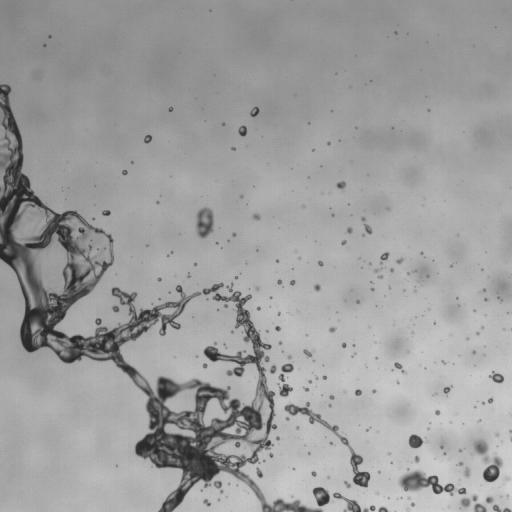droplet: (470, 439, 503, 482), (195, 207, 214, 238), (408, 434, 428, 448), (488, 370, 504, 383), (7, 95, 18, 106), (243, 116, 254, 127), (28, 181, 39, 192), (187, 223, 198, 234), (75, 296, 86, 307), (133, 300, 144, 311), (65, 305, 76, 316), (119, 312, 130, 323), (82, 327, 93, 338), (332, 331, 343, 342), (469, 336, 480, 347), (284, 372, 295, 383), (267, 380, 278, 391), (285, 392, 296, 403), (273, 395, 284, 406), (139, 411, 150, 422), (295, 412, 306, 423), (139, 424, 150, 435), (241, 462, 252, 473), (215, 470, 226, 481), (168, 479, 179, 490), (205, 484, 216, 495), (408, 488, 419, 499), (305, 497, 316, 508), (501, 473, 511, 485), (249, 106, 259, 117), (238, 125, 247, 137), (443, 384, 452, 396), (336, 181, 346, 191), (463, 466, 471, 478), (19, 165, 28, 174), (206, 231, 215, 240), (385, 257, 394, 266), (373, 278, 382, 287), (182, 286, 191, 295), (171, 292, 180, 301), (110, 295, 119, 304), (119, 304, 128, 313), (16, 309, 25, 318), (53, 322, 62, 331), (12, 334, 21, 343), (13, 337, 22, 346), (119, 371, 128, 380), (139, 393, 148, 402), (309, 404, 318, 413), (466, 443, 475, 452), (413, 446, 422, 455), (485, 447, 494, 456), (257, 449, 266, 458), (473, 452, 482, 461), (409, 463, 418, 472), (173, 467, 182, 476), (398, 467, 407, 476), (238, 480, 247, 489), (394, 484, 403, 493), (452, 492, 461, 501), (269, 363, 276, 374), (504, 372, 511, 383), (251, 504, 262, 511), (344, 479, 352, 488), (505, 480, 511, 491), (320, 505, 331, 511), (463, 505, 474, 511), (313, 283, 321, 291), (203, 498, 211, 506), (144, 134, 151, 143), (396, 257, 405, 264), (252, 213, 260, 220), (112, 305, 119, 313), (0, 74, 5, 85), (0, 125, 5, 136), (0, 166, 5, 177), (8, 102, 15, 109), (246, 104, 253, 111), (17, 125, 24, 132), (20, 146, 27, 153), (21, 158, 28, 165), (38, 194, 45, 201), (192, 206, 199, 213), (56, 207, 63, 214), (190, 217, 197, 224), (91, 220, 98, 227), (211, 222, 218, 229), (369, 223, 376, 230), (342, 232, 349, 239), (392, 262, 399, 269), (381, 268, 388, 275), (282, 278, 289, 285), (153, 299, 160, 306), (242, 302, 249, 309), (253, 323, 260, 330), (13, 327, 20, 334), (66, 330, 73, 337), (469, 333, 476, 340), (259, 335, 266, 342), (270, 340, 277, 347), (40, 345, 47, 352), (262, 348, 269, 355), (107, 359, 114, 366), (62, 361, 69, 368), (115, 367, 122, 374), (275, 367, 282, 374), (263, 369, 270, 376), (297, 400, 304, 407), (326, 429, 333, 436), (416, 430, 423, 437), (502, 431, 509, 438), (136, 433, 143, 440), (267, 433, 274, 440), (333, 437, 340, 444), (268, 445, 275, 452), (496, 451, 503, 458), (136, 455, 143, 462), (479, 463, 486, 470), (357, 464, 364, 471), (239, 465, 246, 472), (164, 466, 171, 473), (498, 466, 505, 473), (250, 473, 257, 480), (211, 474, 218, 481), (494, 477, 501, 484), (197, 478, 204, 485), (438, 479, 445, 486), (453, 482, 460, 489), (259, 486, 266, 493), (440, 490, 447, 497), (464, 491, 471, 498), (182, 494, 189, 501), (283, 496, 290, 503), (477, 496, 484, 503), (266, 498, 273, 505), (254, 500, 261, 507), (340, 500, 347, 507), (468, 500, 475, 507), (485, 503, 492, 510), (328, 326, 336, 332), (354, 389, 362, 395), (172, 506, 181, 511), (202, 506, 211, 511), (274, 325, 281, 331), (201, 363, 208, 369), (102, 210, 110, 215), (302, 386, 310, 391), (414, 455, 419, 463), (346, 227, 352, 233), (317, 260, 323, 266), (388, 267, 394, 273), (435, 409, 441, 415), (0, 258, 4, 267), (277, 278, 282, 285), (488, 396, 493, 403), (456, 461, 463, 466), (186, 272, 191, 278), (377, 274, 383, 279), (289, 280, 295, 285), (254, 285, 259, 291), (341, 342, 346, 348), (365, 426, 371, 431), (494, 431, 499, 437), (311, 470, 316, 476), (413, 286, 417, 293), (507, 479, 511, 486), (409, 507, 416, 511), (486, 507, 493, 511), (168, 106, 173, 111), (122, 170, 127, 175), (341, 240, 346, 245), (471, 349, 476, 354), (287, 354, 292, 359), (329, 394, 334, 399), (268, 452, 273, 457), (410, 502, 415, 507), (9, 83, 14, 88), (7, 92, 12, 97), (256, 112, 261, 117), (245, 130, 250, 135), (237, 134, 242, 139), (20, 135, 25, 140), (2, 138, 7, 143), (149, 139, 154, 144), (336, 177, 341, 182), (343, 185, 348, 190), (336, 187, 341, 192), (154, 195, 159, 200), (47, 203, 52, 208), (104, 205, 109, 210), (69, 206, 74, 211), (329, 208, 334, 213), (76, 209, 81, 214), (255, 209, 260, 214), (360, 211, 365, 216), (247, 213, 252, 218), (259, 214, 264, 219), (87, 219, 92, 224), (253, 219, 258, 224), (364, 219, 369, 224), (347, 222, 352, 227), (342, 226, 347, 231), (360, 227, 365, 232), (110, 233, 115, 238), (227, 233, 232, 238), (112, 239, 117, 244), (214, 244, 219, 249), (380, 248, 385, 253), (112, 250, 117, 255), (112, 259, 117, 264), (400, 260, 405, 265), (363, 262, 368, 267), (375, 263, 380, 268), (106, 265, 111, 270), (372, 272, 377, 277), (406, 274, 411, 279), (99, 275, 104, 280), (214, 279, 219, 284), (311, 280, 316, 285), (111, 282, 116, 287), (94, 283, 99, 288), (206, 283, 211, 288), (319, 283, 324, 288), (119, 286, 124, 291), (181, 286, 186, 291), (231, 286, 236, 291), (126, 289, 131, 294), (312, 289, 317, 294), (317, 289, 322, 294), (482, 292, 487, 297), (20, 298, 25, 303), (159, 299, 164, 304), (147, 305, 152, 310), (135, 310, 140, 315), (62, 315, 67, 320), (248, 315, 253, 320), (99, 321, 104, 326), (328, 322, 333, 327), (270, 326, 275, 331), (475, 326, 480, 331), (332, 330, 337, 335), (82, 333, 87, 338), (277, 344, 282, 349), (306, 346, 311, 351), (351, 346, 356, 351), (32, 349, 37, 354), (311, 353, 316, 358), (53, 354, 58, 359), (56, 358, 61, 363), (285, 358, 290, 363), (73, 359, 78, 364), (93, 359, 98, 364), (292, 363, 297, 368), (394, 367, 399, 372), (283, 371, 288, 376), (317, 373, 322, 378), (309, 375, 314, 380), (311, 378, 316, 383), (502, 378, 507, 383), (444, 381, 449, 386), (493, 381, 498, 386), (287, 382, 292, 387), (304, 382, 309, 387), (447, 390, 452, 395), (360, 391, 365, 396), (356, 394, 361, 399), (327, 398, 332, 403), (476, 401, 481, 406), (272, 404, 277, 409), (436, 405, 441, 410), (284, 411, 289, 416), (296, 411, 301, 416), (304, 414, 309, 419), (320, 414, 325, 419), (270, 419, 275, 424), (313, 420, 318, 425), (329, 421, 334, 426), (321, 425, 326, 430), (336, 428, 341, 433), (345, 434, 350, 439), (404, 435, 409, 440), (495, 436, 500, 441), (348, 440, 353, 445), (420, 442, 425, 447), (342, 444, 347, 449), (130, 446, 135, 451), (354, 449, 359, 454), (346, 452, 351, 457), (387, 455, 392, 460), (409, 455, 414, 460), (418, 455, 423, 460), (145, 457, 150, 462), (253, 461, 258, 466), (462, 461, 467, 466), (347, 464, 352, 469), (459, 465, 464, 470), (260, 468, 265, 473), (315, 470, 320, 475), (349, 472, 354, 477), (478, 473, 483, 478), (479, 476, 484, 481), (367, 479, 372, 484), (349, 480, 354, 485), (314, 482, 319, 487), (354, 483, 359, 488), (220, 484, 225, 489), (322, 484, 327, 489), (246, 486, 251, 491), (214, 487, 219, 492), (249, 490, 254, 495), (501, 490, 506, 495), (218, 493, 223, 498), (459, 493, 464, 498), (328, 494, 333, 499), (348, 495, 353, 500), (160, 497, 165, 502), (406, 499, 411, 504), (156, 503, 161, 508), (320, 504, 325, 509), (385, 504, 390, 509), (359, 505, 364, 510), (498, 505, 503, 510), (441, 360, 447, 364), (329, 441, 335, 445), (0, 138, 3, 145), (0, 179, 3, 186), (239, 194, 243, 199), (232, 232, 236, 237), (256, 306, 261, 310), (278, 340, 282, 345), (315, 375, 319, 380), (322, 375, 327, 379), (307, 379, 312, 383), (372, 389, 376, 394), (432, 392, 437, 396), (476, 419, 481, 423), (275, 436, 280, 440), (446, 504, 450, 509), (405, 507, 410, 511), (230, 147, 236, 150), (411, 269, 417, 272), (221, 122, 225, 126), (326, 141, 330, 145), (301, 204, 305, 208), (275, 259, 279, 263), (193, 262, 197, 266), (449, 263, 453, 267), (406, 271, 410, 275), (157, 277, 161, 281), (370, 287, 374, 291), (482, 288, 486, 292), (484, 297, 488, 301), (480, 325, 484, 329), (410, 331, 414, 335), (481, 401, 485, 405), (443, 451, 447, 455), (376, 470, 380, 474), (326, 475, 330, 479), (375, 491, 379, 495), (407, 496, 411, 500), (277, 311, 280, 316), (396, 379, 399, 384), (296, 425, 299, 430), (506, 494, 509, 499), (508, 312, 511, 317), (508, 494, 511, 499), (508, 504, 511, 509), (373, 508, 378, 511), (446, 508, 451, 511), (48, 34, 51, 38), (43, 43, 46, 47), (156, 200, 159, 204), (386, 207, 390, 210), (331, 213, 334, 217), (145, 244, 149, 247), (294, 249, 297, 253), (420, 251, 423, 255), (426, 274, 429, 278), (234, 276, 238, 279), (388, 285, 391, 289), (168, 290, 171, 294), (157, 297, 161, 300), (269, 296, 273, 299), (356, 299, 359, 303), (265, 329, 269, 332), (230, 330, 234, 333), (476, 331, 479, 335), (465, 337, 469, 340), (374, 356, 378, 359), (328, 403, 331, 407), (440, 445, 443, 449), (307, 451, 310, 455), (387, 452, 391, 455), (394, 31, 397, 34), (427, 108, 430, 111), (391, 126, 394, 129), (312, 148, 315, 151), (130, 160, 133, 163), (92, 217, 95, 220), (362, 233, 365, 236), (456, 233, 459, 236), (215, 241, 218, 244), (298, 256, 301, 259), (368, 262, 371, 265), (291, 267, 294, 270), (370, 281, 373, 284), (473, 309, 476, 312), (433, 321, 436, 324), (502, 328, 505, 331), (352, 344, 355, 347), (281, 350, 284, 353), (406, 350, 409, 353), (195, 355, 198, 358), (343, 390, 346, 393), (473, 405, 476, 408), (427, 427, 430, 430), (262, 459, 265, 462), (390, 461, 393, 464), (292, 467, 295, 470), (227, 482, 230, 485), (217, 498, 220, 501), (396, 29, 399, 32), (391, 32, 394, 35), (45, 33, 48, 36), (51, 34, 54, 37), (40, 41, 43, 44), (42, 46, 45, 49), (369, 76, 372, 79), (251, 104, 254, 107), (172, 105, 175, 108), (427, 105, 430, 108), (165, 108, 168, 111), (168, 111, 171, 114), (426, 111, 429, 114), (249, 115, 252, 118), (220, 119, 223, 122), (224, 121, 227, 124), (221, 125, 224, 128), (144, 132, 147, 135), (149, 132, 152, 135), (141, 135, 144, 138), (151, 136, 154, 139), (326, 138, 329, 141), (147, 141, 150, 144), (330, 141, 333, 144), (232, 144, 235, 147), (327, 144, 330, 147), (310, 145, 313, 148), (235, 147, 238, 150), (308, 148, 311, 151), (231, 149, 234, 152), (311, 151, 314, 154), (133, 160, 136, 163), (123, 166, 126, 169), (126, 168, 129, 171), (123, 174, 126, 177), (236, 195, 239, 198), (242, 196, 245, 199), (152, 200, 155, 203), (159, 200, 162, 203), (247, 202, 250, 205), (156, 203, 159, 206), (344, 203, 347, 206), (109, 209, 112, 212), (92, 214, 95, 217), (103, 214, 106, 217), (328, 214, 331, 217), (333, 214, 336, 217), (232, 229, 235, 232), (106, 231, 109, 234), (235, 232, 238, 235), (338, 240, 341, 243), (145, 241, 148, 244), (218, 243, 221, 246), (343, 243, 346, 246), (146, 246, 149, 249), (222, 246, 225, 249), (252, 248, 255, 251), (258, 248, 261, 251), (417, 249, 420, 252), (422, 249, 425, 252), (167, 251, 170, 254), (420, 254, 423, 257), (113, 255, 116, 258), (387, 255, 390, 258), (396, 256, 399, 259), (272, 258, 275, 261), (278, 258, 281, 261), (359, 258, 362, 261), (365, 260, 368, 263), (273, 261, 276, 264), (322, 261, 325, 264), (431, 261, 434, 264), (448, 261, 451, 264), (190, 262, 193, 265), (196, 262, 199, 265), (452, 263, 455, 266), (289, 264, 292, 267), (316, 264, 319, 267), (293, 267, 296, 270), (411, 267, 414, 270), (449, 267, 452, 270), (483, 267, 486, 270), (186, 268, 189, 271), (407, 268, 410, 271), (477, 268, 480, 271), (481, 270, 484, 273), (403, 271, 406, 274), (409, 271, 412, 274), (413, 271, 416, 274), (184, 272, 187, 275), (189, 272, 192, 275), (234, 272, 237, 275), (377, 272, 380, 275), (158, 274, 161, 277), (237, 274, 240, 277), (189, 276, 192, 279), (279, 276, 282, 279), (423, 276, 426, 279), (289, 277, 292, 280), (377, 277, 380, 280), (160, 279, 163, 282), (274, 279, 277, 282), (156, 280, 159, 283), (294, 280, 297, 283), (223, 283, 226, 286), (228, 283, 231, 286), (279, 283, 282, 286), (293, 283, 296, 286), (173, 284, 176, 287), (289, 284, 292, 287), (371, 284, 374, 287), (390, 284, 393, 287), (385, 285, 388, 288), (411, 286, 414, 289), (415, 286, 418, 289), (479, 287, 482, 290), (485, 288, 488, 291), (108, 290, 111, 293), (369, 290, 372, 293), (269, 292, 272, 295), (495, 293, 498, 296), (499, 295, 502, 298), (356, 296, 359, 299), (452, 296, 455, 299), (458, 296, 461, 299), (480, 297, 483, 300), (268, 298, 271, 301), (359, 299, 362, 302), (455, 299, 458, 302), (352, 300, 355, 303), (484, 300, 487, 303), (356, 303, 359, 306), (377, 304, 380, 307), (474, 306, 477, 309), (259, 308, 262, 311), (505, 308, 508, 311), (110, 309, 113, 312), (115, 311, 118, 314), (274, 311, 277, 314), (422, 311, 425, 314), (471, 311, 474, 314), (279, 313, 282, 316), (98, 315, 101, 318), (276, 315, 279, 318), (92, 317, 95, 320), (430, 319, 433, 322), (435, 321, 438, 324), (277, 323, 280, 326), (483, 326, 486, 329), (274, 329, 277, 332), (305, 330, 308, 333), (472, 331, 475, 334), (475, 334, 478, 337), (351, 340, 354, 343), (345, 343, 348, 346), (339, 345, 342, 348), (270, 346, 273, 349), (469, 348, 472, 351), (475, 350, 478, 353), (469, 352, 472, 355), (303, 353, 306, 356), (375, 353, 378, 356), (353, 354, 356, 357), (308, 356, 311, 359), (371, 356, 374, 359), (440, 356, 443, 359), (443, 358, 446, 361), (374, 359, 377, 362), (397, 360, 400, 363), (440, 362, 443, 365), (445, 362, 448, 365), (366, 363, 369, 366), (401, 366, 404, 369), (420, 366, 423, 369), (426, 366, 429, 369), (313, 371, 316, 374), (323, 372, 326, 375), (485, 374, 488, 377), (326, 376, 329, 379), (322, 379, 325, 382), (398, 379, 401, 382), (283, 380, 286, 383), (393, 380, 396, 383), (452, 383, 455, 386), (355, 386, 358, 389), (373, 386, 376, 389), (440, 387, 443, 390), (301, 388, 304, 391), (352, 389, 355, 392), (305, 390, 308, 393), (320, 390, 323, 393), (430, 390, 433, 393), (369, 391, 372, 394), (374, 391, 377, 394), (331, 392, 334, 395), (442, 392, 445, 395), (487, 395, 490, 398), (308, 399, 311, 402), (484, 399, 487, 402), (491, 400, 494, 403), (470, 404, 473, 407), (325, 405, 328, 408), (471, 407, 474, 410), (474, 407, 477, 410), (432, 410, 435, 413), (438, 413, 441, 416), (434, 414, 437, 417), (476, 416, 479, 419), (478, 421, 481, 424), (308, 422, 311, 425), (427, 423, 430, 426), (365, 425, 368, 428), (298, 426, 301, 429), (362, 428, 365, 431), (368, 428, 371, 431), (365, 431, 368, 434), (341, 433, 344, 436), (279, 435, 282, 438), (277, 439, 280, 442), (441, 442, 444, 445), (327, 443, 330, 446), (459, 445, 462, 448), (307, 448, 310, 451), (388, 448, 391, 451), (441, 448, 444, 451), (455, 448, 458, 451), (462, 449, 465, 452), (304, 451, 307, 454), (445, 451, 448, 454), (459, 451, 462, 454), (272, 454, 275, 457), (442, 454, 445, 457), (387, 459, 390, 462), (392, 460, 395, 463), (455, 460, 458, 463), (117, 463, 120, 466), (388, 463, 391, 466), (452, 463, 455, 466), (112, 464, 115, 467), (292, 464, 295, 467), (289, 465, 292, 468), (376, 467, 379, 470), (313, 468, 316, 471), (379, 468, 382, 471), (291, 469, 294, 472), (380, 471, 383, 474), (308, 472, 311, 475), (433, 472, 436, 475), (329, 476, 332, 479), (449, 480, 452, 483), (342, 483, 345, 486), (462, 484, 465, 487), (340, 492, 343, 495), (384, 494, 387, 497), (389, 495, 392, 498), (201, 497, 204, 500), (398, 498, 401, 501), (203, 503, 206, 506), (209, 503, 212, 506), (409, 505, 412, 508), (483, 314, 487, 316), (448, 421, 452, 423), (335, 72, 337, 75), (307, 122, 310, 124), (355, 126, 357, 129), (307, 176, 310, 178), (227, 239, 229, 242), (220, 246, 222, 249), (358, 257, 361, 259), (245, 261, 247, 264), (481, 268, 483, 271), (206, 297, 208, 300), (457, 304, 460, 306), (217, 308, 219, 311), (427, 308, 430, 310), (414, 316, 417, 318), (509, 328, 511, 331), (305, 334, 308, 336), (483, 353, 485, 356), (376, 430, 379, 432), (458, 478, 461, 480), (200, 489, 203, 491), (387, 496, 389, 499), (509, 426, 511, 429), (402, 509, 405, 511), (209, 9, 211, 11), (338, 139, 340, 141), (320, 165, 322, 167), (329, 207, 331, 209), (256, 249, 258, 251), (432, 259, 434, 261), (115, 273, 117, 275), (403, 289, 405, 291), (456, 297, 458, 299), (269, 305, 271, 307), (375, 304, 377, 306), (336, 311, 338, 313), (506, 312, 508, 314), (458, 354, 460, 356), (322, 364, 324, 366), (474, 364, 476, 366), (424, 367, 426, 369), (321, 394, 323, 396), (429, 422, 431, 424), (304, 444, 306, 446), (496, 445, 498, 447), (433, 457, 435, 459), (115, 465, 117, 467), (236, 484, 238, 486), (348, 203, 349, 205), (239, 273, 241, 274), (452, 363, 454, 364), (370, 80, 371, 81), (94, 185, 95, 186), (462, 423, 463, 424), (325, 436, 326, 437)
ligament: (284, 401, 370, 487), (332, 492, 375, 511), (275, 362, 293, 398), (373, 252, 390, 273), (361, 216, 372, 234), (492, 504, 511, 511), (377, 506, 396, 511), (256, 467, 263, 478), (496, 291, 502, 303), (166, 250, 173, 257), (350, 351, 356, 357), (458, 447, 465, 452), (223, 342, 227, 349), (509, 429, 511, 442), (287, 311, 292, 315), (396, 496, 402, 499), (364, 363, 367, 367), (374, 341, 376, 344), (173, 355, 175, 358), (500, 440, 503, 441), (500, 496, 502, 497)
